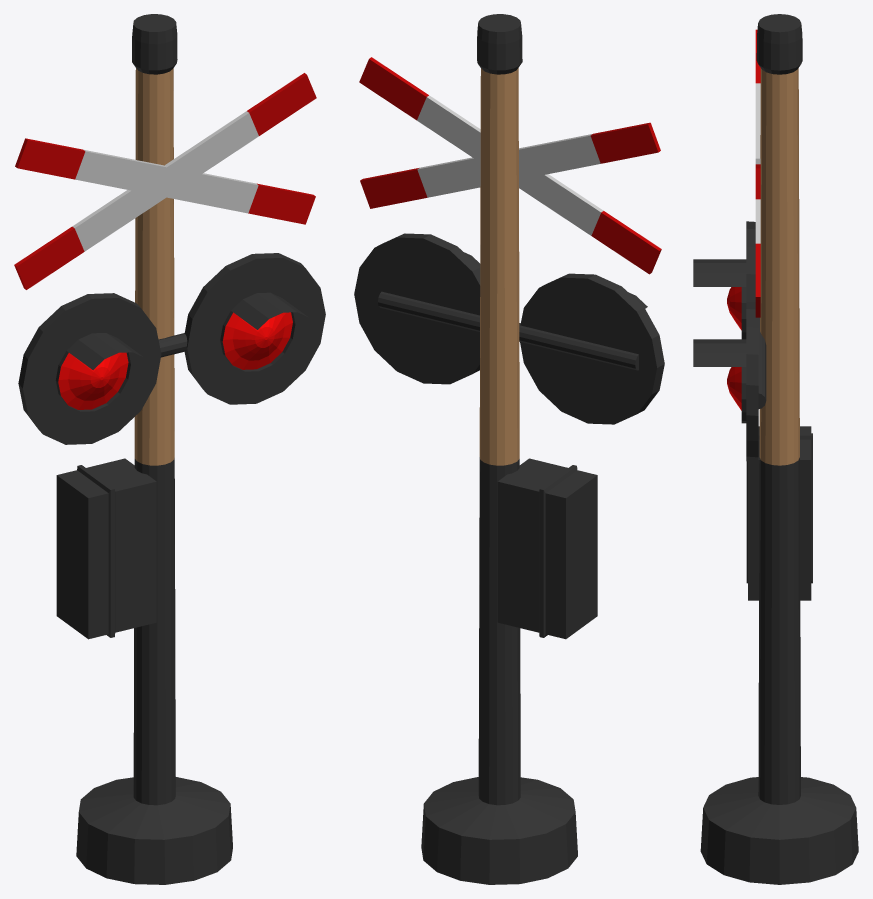
The model's file is TrainTrafficLight.obj.
3 views of the same model, side by side, from view 1: azimuth 30°, elevation 25°; view 2: azimuth 150°, elevation 25°; view 3: azimuth 270°, elevation 25° (orthographic).
Parts seen in each view (by area): view 1: TrainLight_Cube.001; view 2: TrainLight_Cube.001; view 3: TrainLight_Cube.001.
Boxes of the visible parts, box(x1,y1,x2,y2) form: TrainLight_Cube.001: box(14, 14, 325, 884); TrainLight_Cube.001: box(354, 14, 664, 884); TrainLight_Cube.001: box(693, 14, 858, 884).
Size of the model in its own units: 1.55 by 4 by 0.7247.
